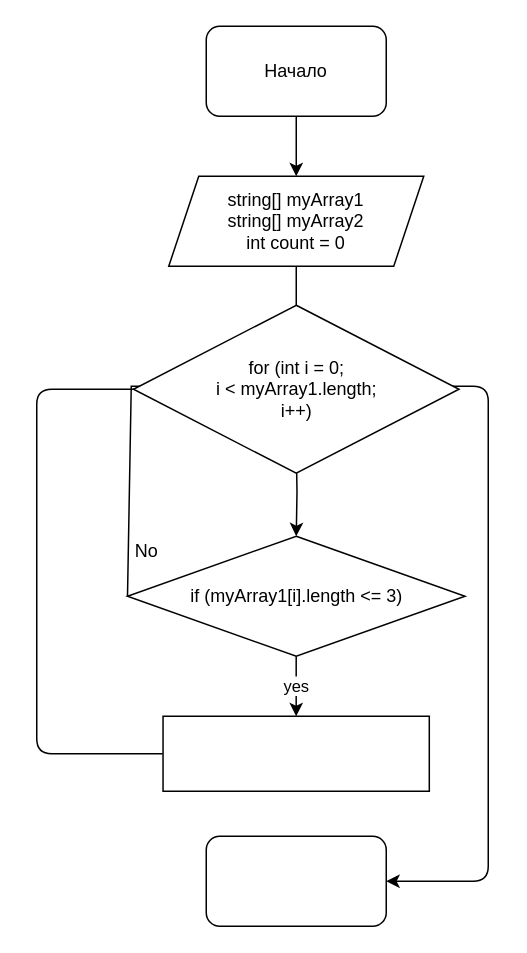
This 527x953 diagram has some shape labels left out. The centre of each missing label's shape, as x and y in pixels:
"myArray2[count] = myArray1[i] count++;" belongs at [295,753].
"Конец" belongs at [295,880].
